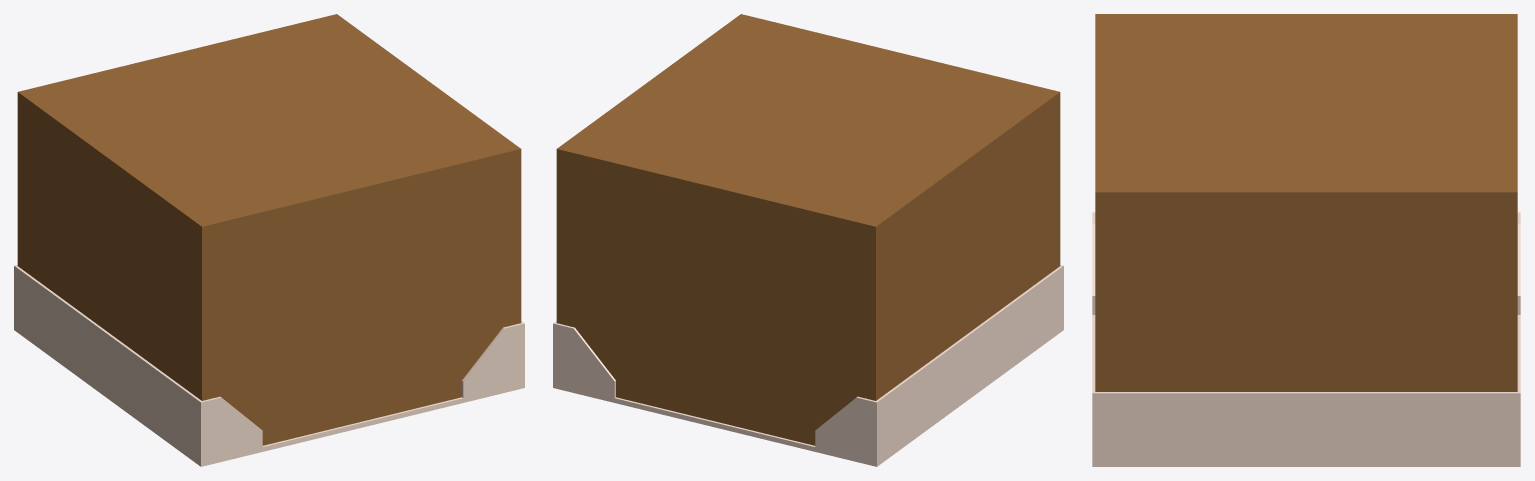
The picture shows the model from 3 angles, left to right: view 1: azimuth 30°, elevation 25°; view 2: azimuth 150°, elevation 25°; view 3: azimuth 270°, elevation 25°; orthographic projection. The views are drawn at different scales.
Visible parts, largest first — view 1: Box1, Box1_Cover; view 2: Box1, Box1_Cover; view 3: Box1, Box1_Cover.
Boxes of the visible parts, x1,y1,x2,y2 form: Box1: [17, 14, 521, 445]; Box1_Cover: [14, 265, 524, 466]; Box1: [556, 14, 1060, 445]; Box1_Cover: [553, 265, 1063, 466]; Box1: [1095, 14, 1517, 391]; Box1_Cover: [1092, 212, 1520, 466].
Size of the model in its own units: 142 by 100 by 142.
